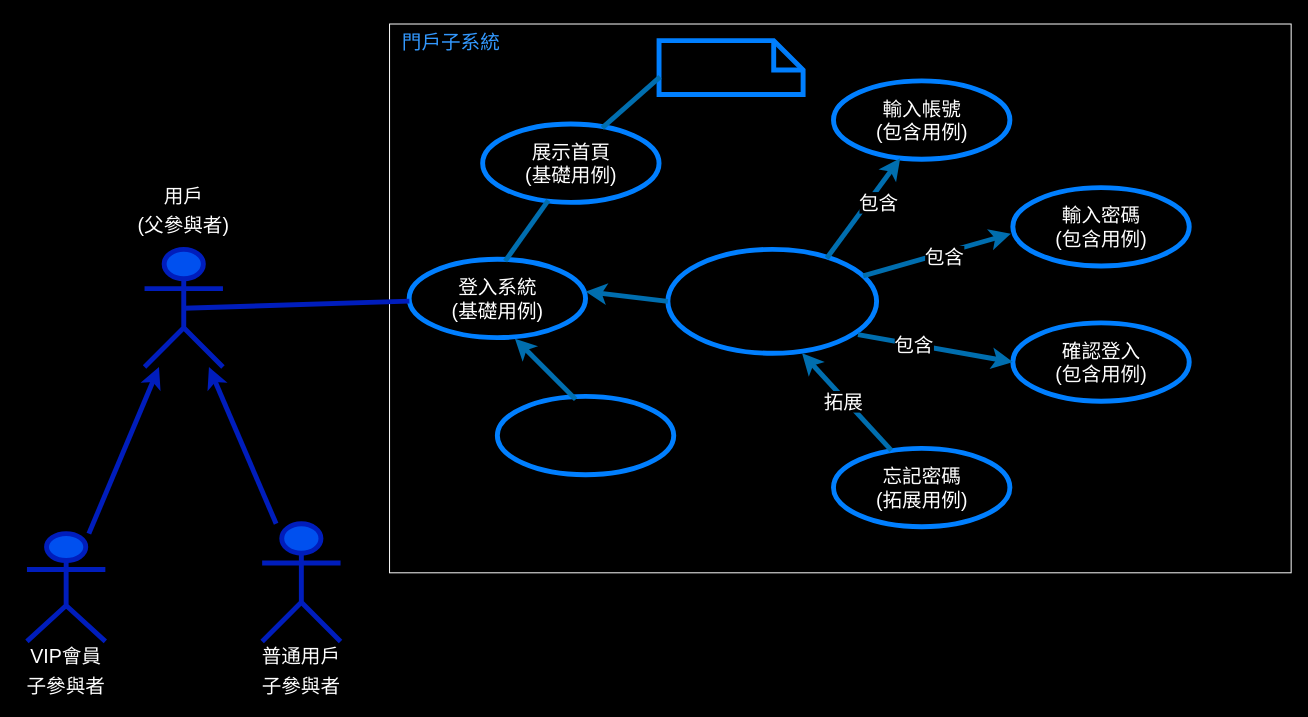
The diagram is 1308 pixels wide and 717 high, and some of its shapes have lost their labels. Here are the shapes that lost their labels. From the top down, the box of each, then its label:
(656, 38, 805, 97): 系統權限
(665, 246, 879, 355): 帳號登入 (子用例/基礎用例)
(494, 393, 676, 477): LINE登入 (子用例)
